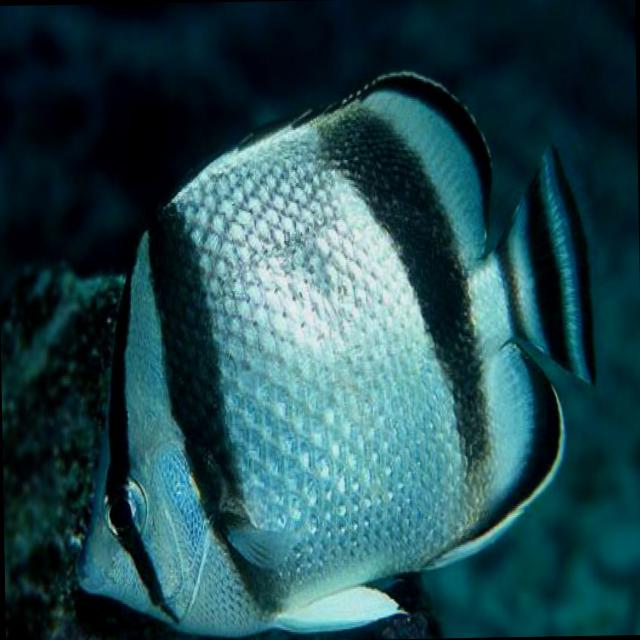ButterflyFish: (63, 67, 597, 640)
